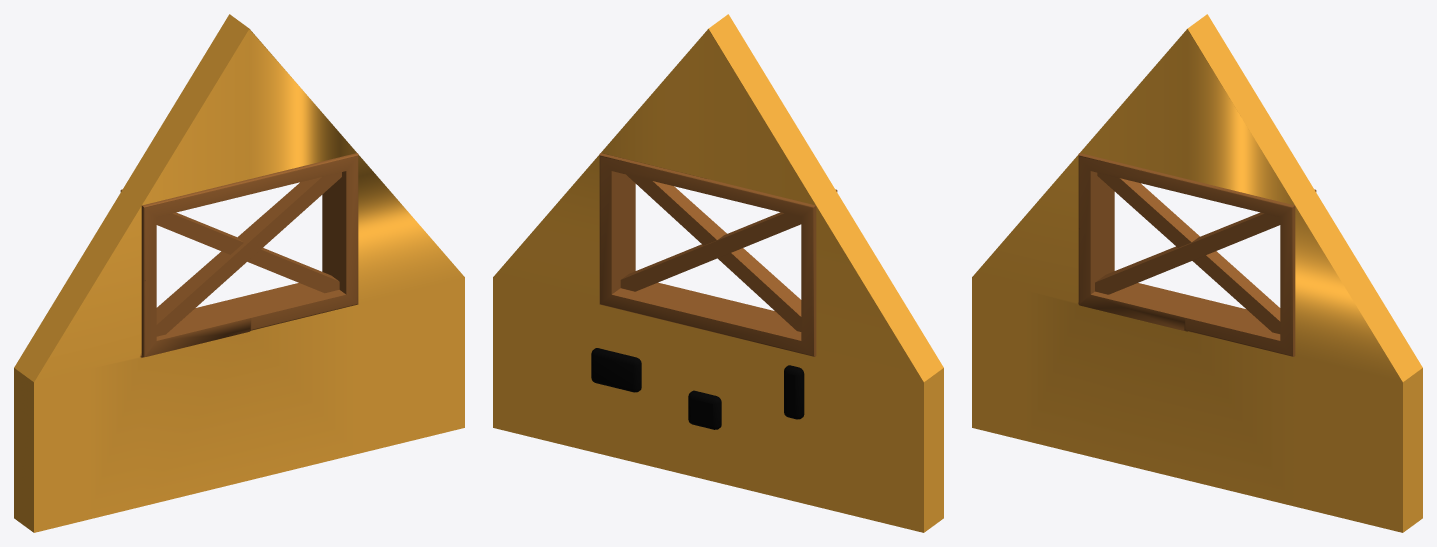
File: Wall Up 4.fbx
3 renders of one model, left to right at view 1: azimuth 30°, elevation 25°; view 2: azimuth 150°, elevation 25°; view 3: azimuth 330°, elevation 25°, orthographic.
Parts seen in each view (by area): view 1: Wall Up 4; view 2: Wall Up 4; view 3: Wall Up 4.
Boxes of the visible parts, x1,y1,x2,y2 form: Wall Up 4: (14, 14, 464, 532); Wall Up 4: (493, 14, 943, 532); Wall Up 4: (972, 14, 1422, 532).
Bounding box in the file's own units: 249 × 249 × 26.
Materials: 1 (1 with a texture image).
